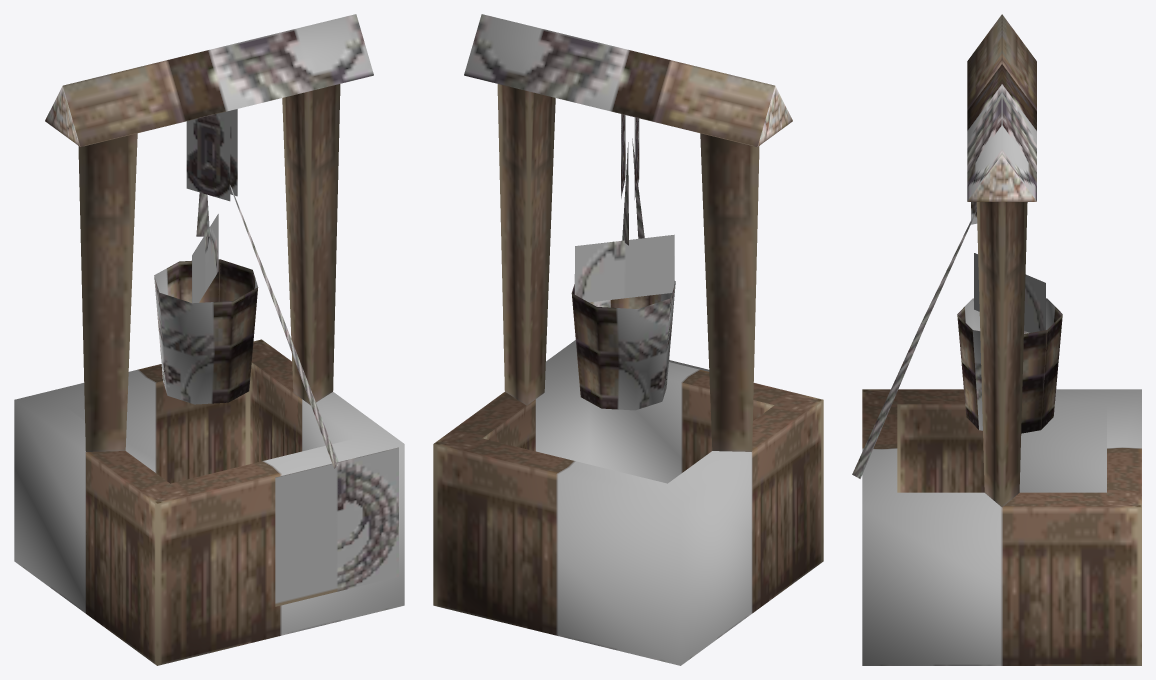
The model's file is int_wst_well.dae.
The picture shows the model from 3 angles, left to right: view 1: azimuth 30°, elevation 25°; view 2: azimuth 150°, elevation 25°; view 3: azimuth 270°, elevation 25°; orthographic projection. The views are drawn at different scales.
Parts seen in each view (by area): view 1: int_wst_well; view 2: int_wst_well; view 3: int_wst_well.
Part boxes in pixels (box(x1,y1,x2,y2)): int_wst_well: box(14, 14, 404, 665); int_wst_well: box(433, 14, 823, 665); int_wst_well: box(852, 14, 1141, 665).
Bounding box in the file's own units: 30.4 × 52.8 × 26.54.
1 material, 1 textured.
